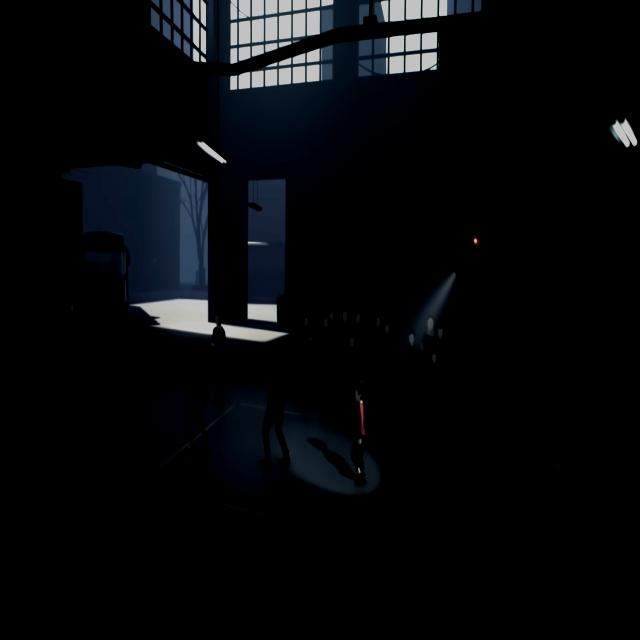boy: (351, 380, 366, 485)
human: (210, 311, 226, 404), (299, 314, 315, 404), (317, 315, 332, 407), (381, 320, 395, 415), (370, 314, 383, 412), (404, 330, 418, 419), (436, 324, 448, 421), (426, 349, 439, 424), (334, 334, 346, 413), (352, 311, 364, 379), (421, 315, 436, 350), (346, 334, 357, 380), (66, 301, 81, 326), (338, 308, 352, 334), (329, 308, 338, 334)
zombie: (552, 381, 590, 522), (442, 372, 482, 502), (258, 353, 290, 466), (184, 338, 210, 452), (112, 348, 140, 439), (56, 326, 80, 428), (0, 321, 19, 415)
